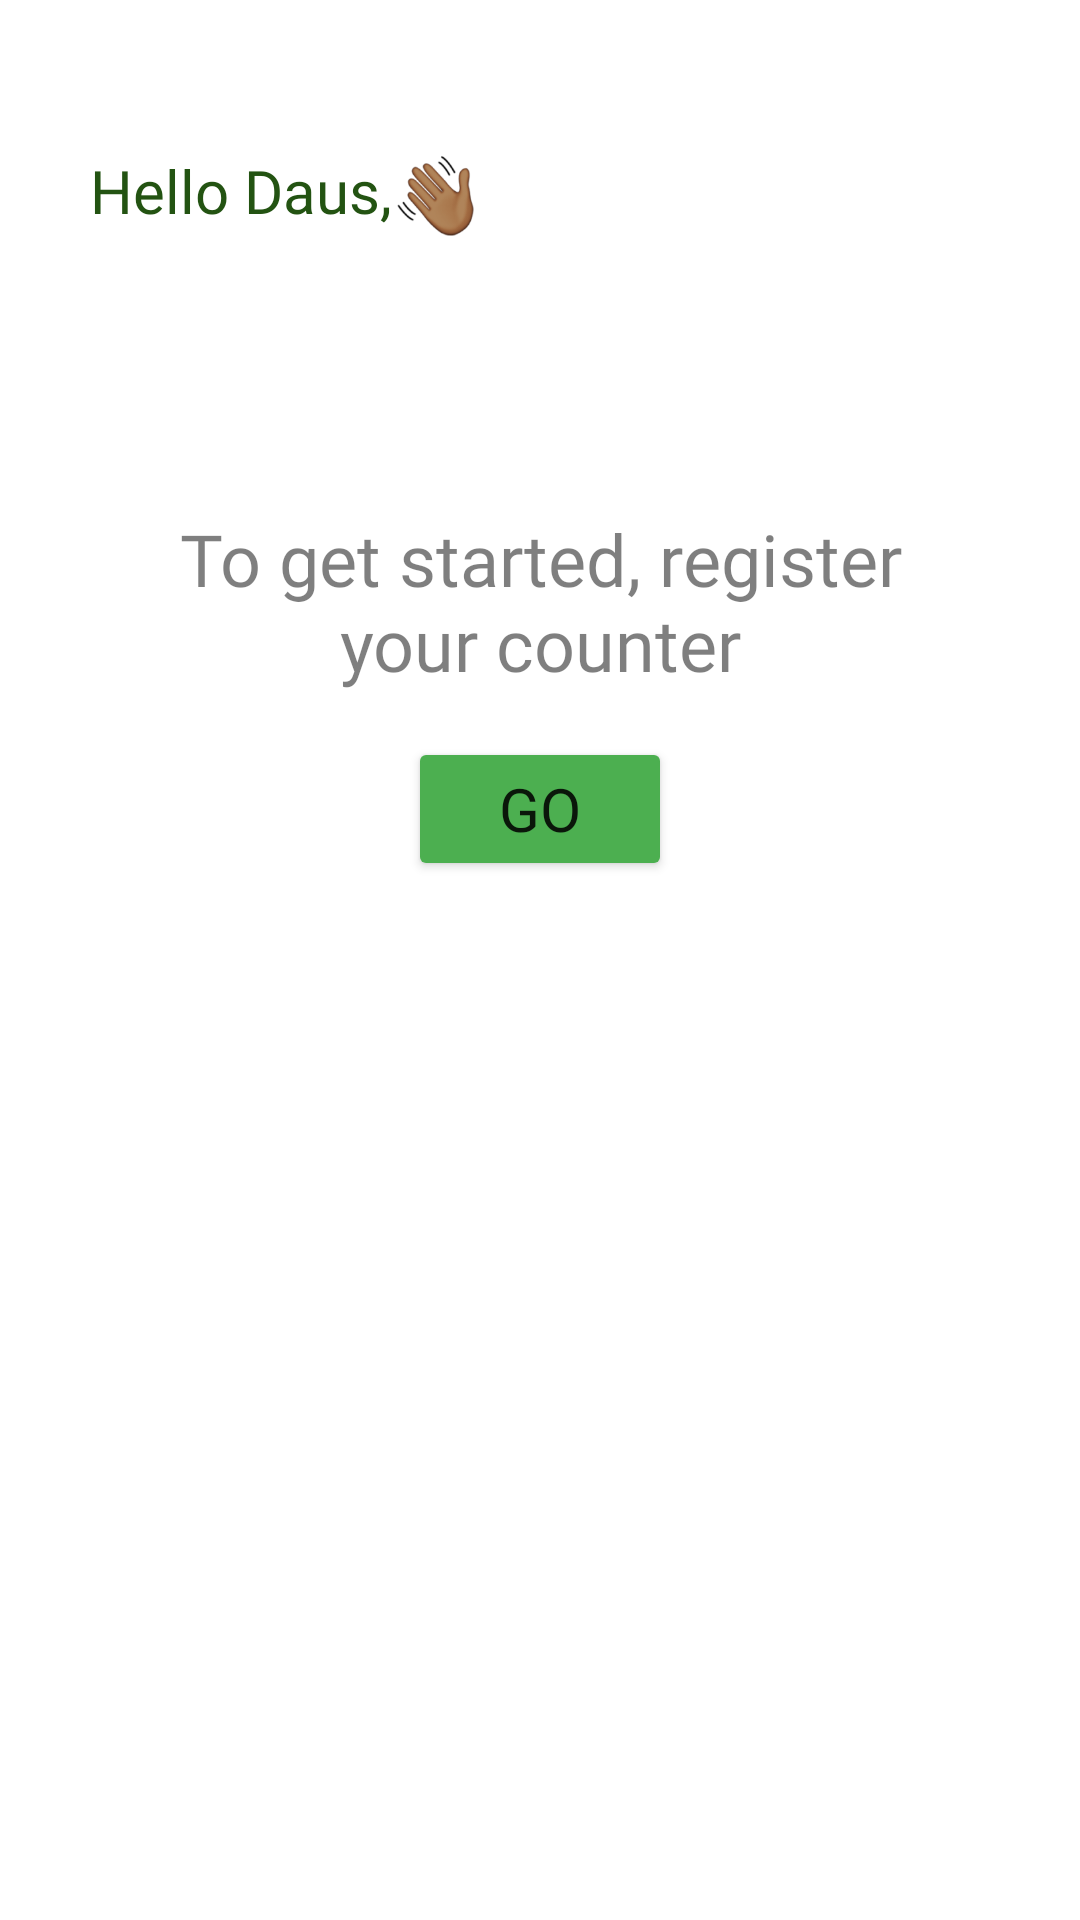

Screen size 1080*1920. Icon name, then its box in pixels as (x1, y1, x2, y2):
wavinghand: (397, 156, 474, 236)
